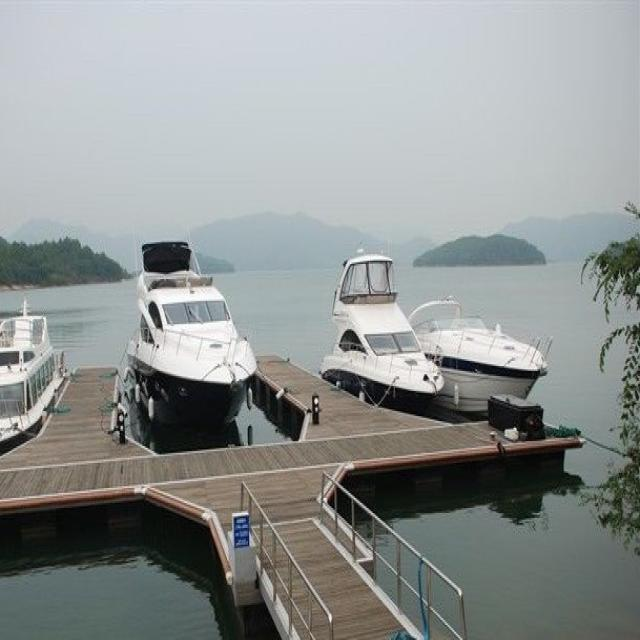houseboat: (120, 227, 255, 431), (324, 247, 441, 408), (408, 283, 548, 412), (0, 296, 59, 452)
